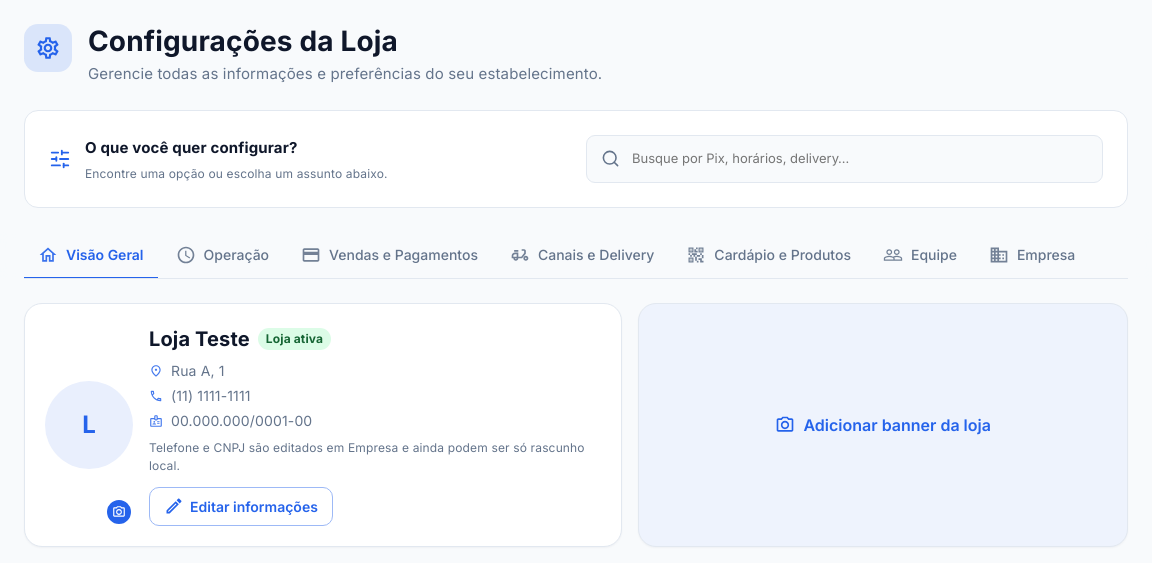
Test case: Settings page navigation › abre Operação com horários e taxa de serviço
Click the tab "Operação".
click(222, 256)  # box [162, 232, 283, 279]
(page scrolled)
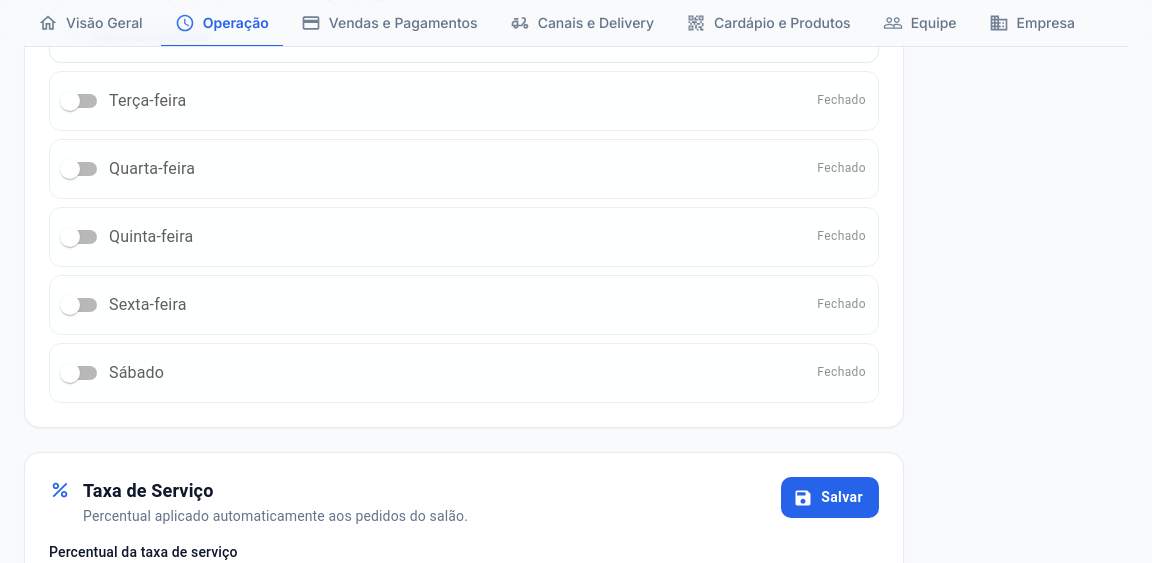
Result: the heading "Taxa de Serviço" is shown at [83, 480, 214, 501]
